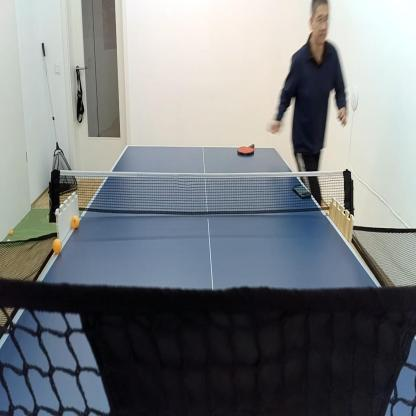Ball: (52, 238, 62, 253), (71, 215, 79, 228), (9, 230, 13, 236), (7, 239, 10, 243)
